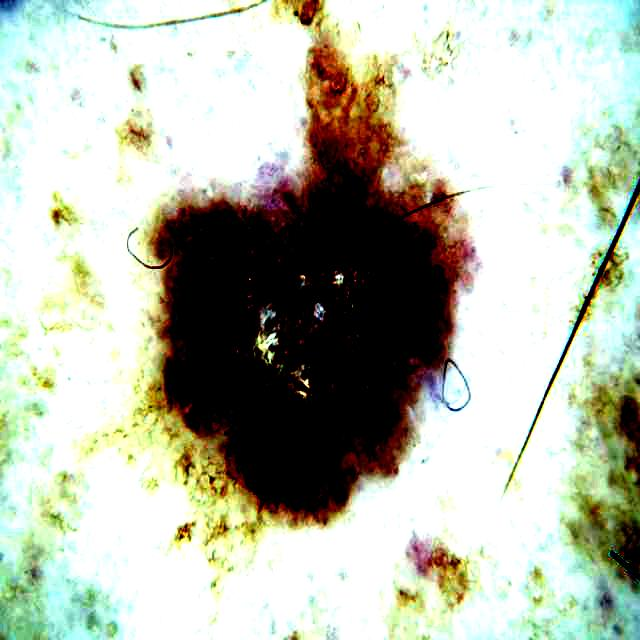AKIEC: (167, 172, 451, 513)
